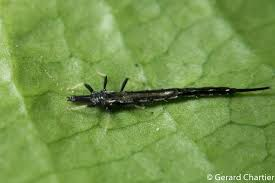Phlaeothripidae: (67, 76, 274, 113)
